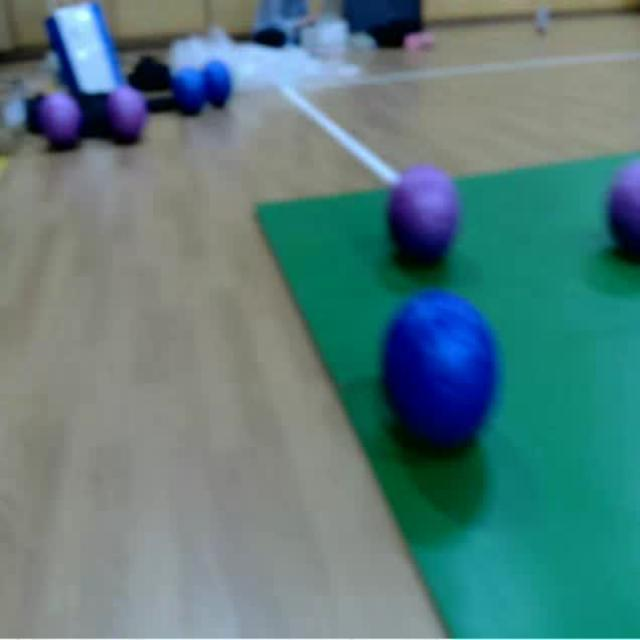blue_ball: (378, 293, 502, 457), (174, 64, 207, 115), (202, 58, 230, 107)
purple_ball: (384, 172, 467, 270), (603, 152, 640, 268), (105, 87, 147, 148), (40, 92, 81, 150)
